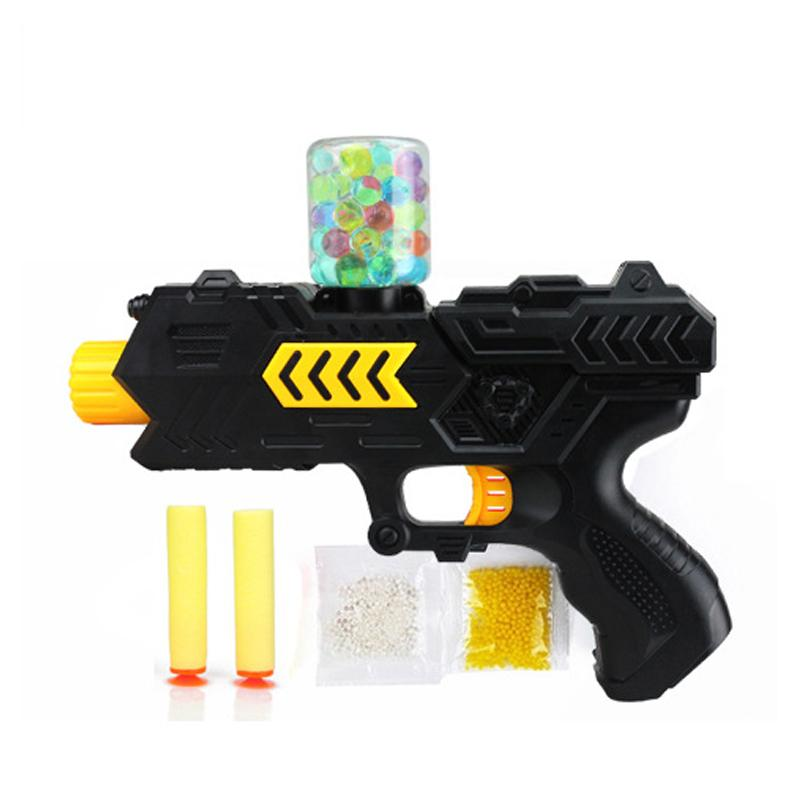Arma Falsa: (67, 132, 795, 718)
